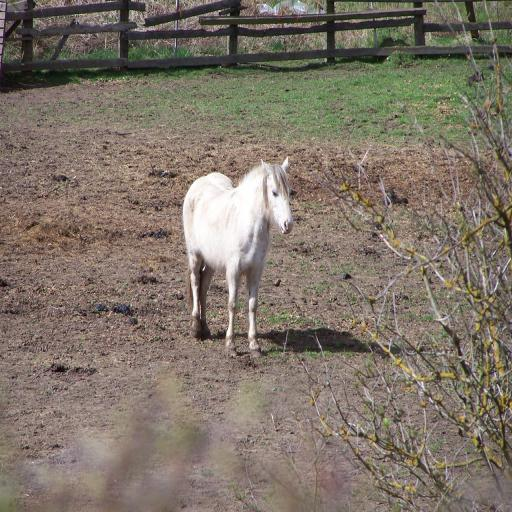horse: (182, 156, 294, 364)
